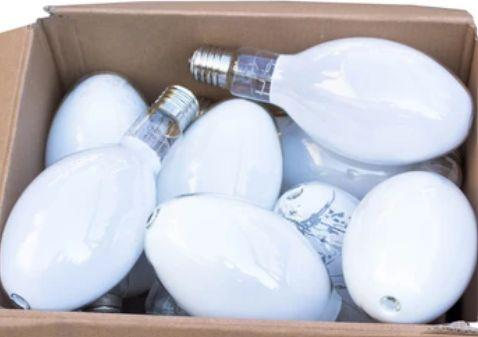light bulb: (0, 86, 201, 315), (190, 32, 475, 166), (145, 189, 351, 333), (339, 168, 478, 337), (153, 97, 285, 235), (42, 70, 155, 193)
